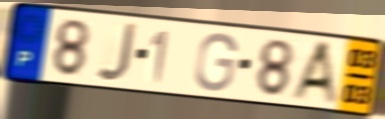1: (148, 29, 170, 84)
8: (256, 38, 297, 98), (52, 18, 93, 78)
A: (288, 39, 342, 108)
G: (193, 30, 240, 94)
J: (95, 22, 140, 84)
